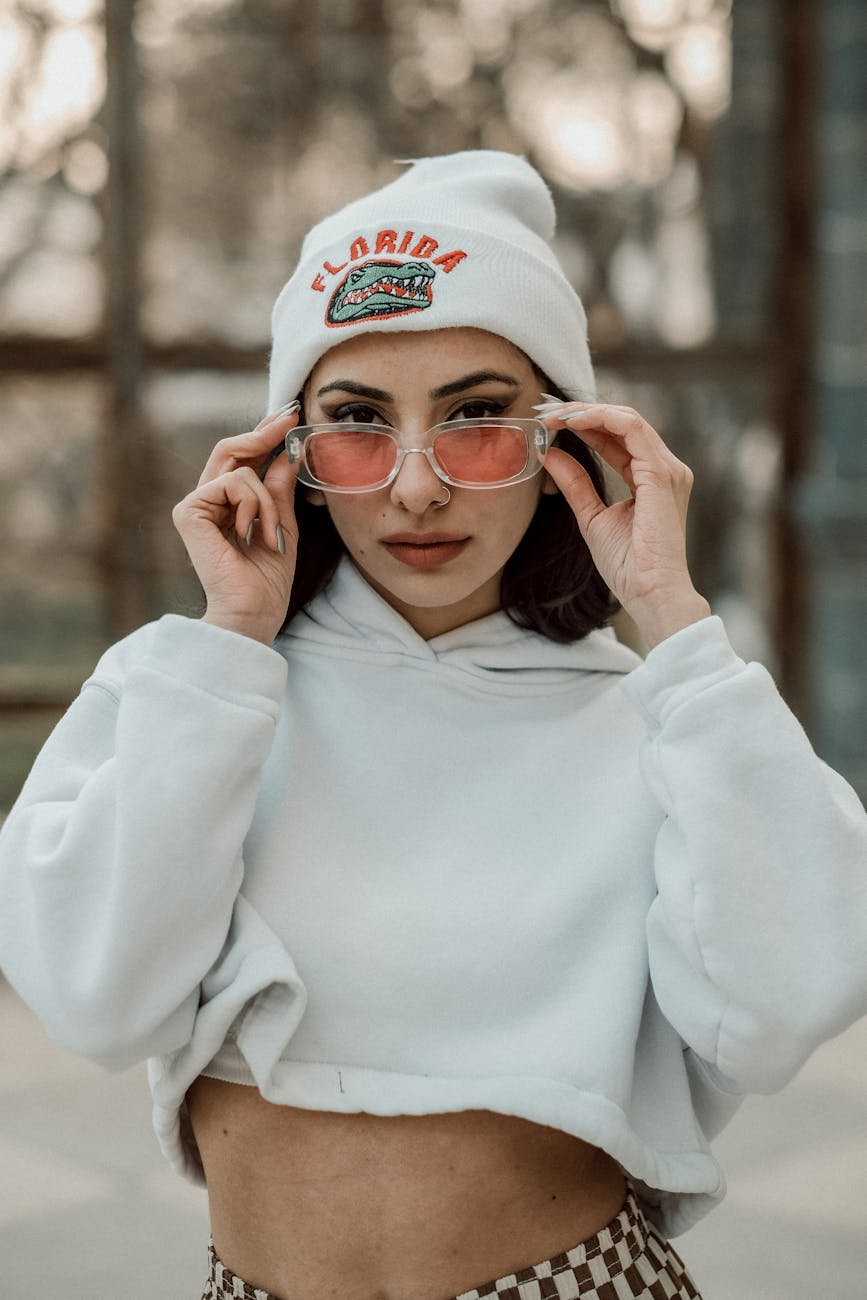crop_top: (88, 441, 783, 1177)
